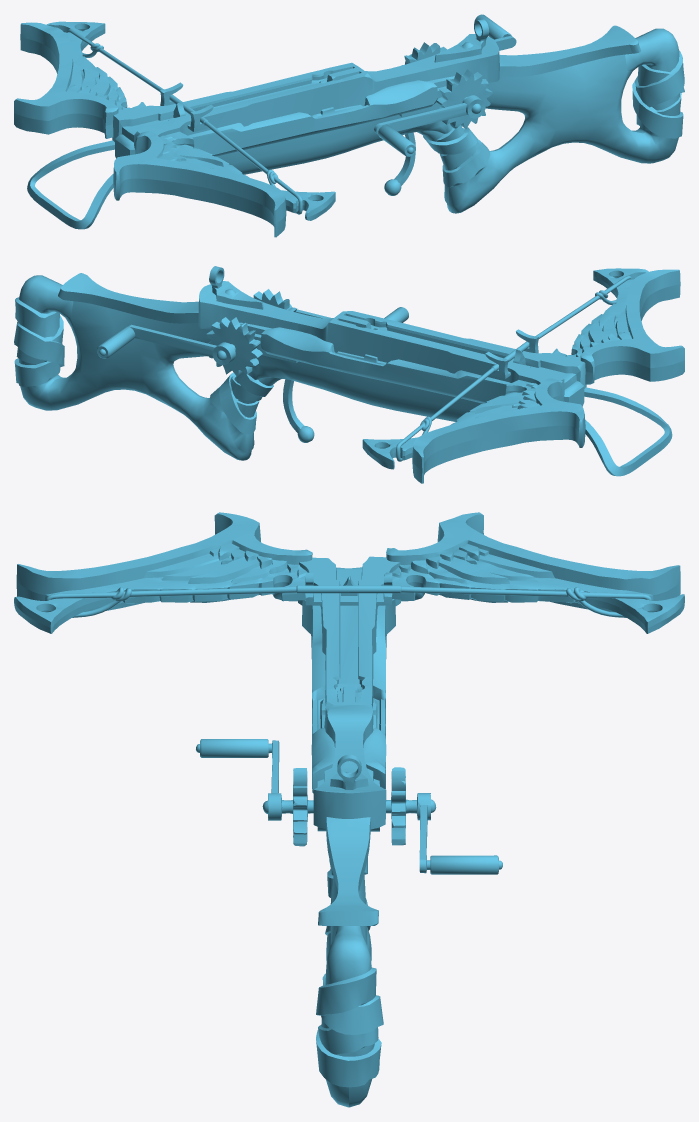
The model's file is SM_Rune_Crossbow_1.fbx.
3 views of the same model, one above another, from view 1: azimuth 30°, elevation 25°; view 2: azimuth 150°, elevation 25°; view 3: azimuth 270°, elevation 25° (orthographic). The views are drawn at different scales.
Parts seen in each view (by area): view 1: SM_Rune_Crossbow_1; view 2: SM_Rune_Crossbow_1; view 3: SM_Rune_Crossbow_1.
Part boxes in pixels (box(x1,y1,x2,y2)): SM_Rune_Crossbow_1: box(14, 14, 684, 237); SM_Rune_Crossbow_1: box(14, 266, 684, 483); SM_Rune_Crossbow_1: box(14, 512, 684, 1107).
Size of the model in its own units: 1.09 by 0.3059 by 0.7758.
